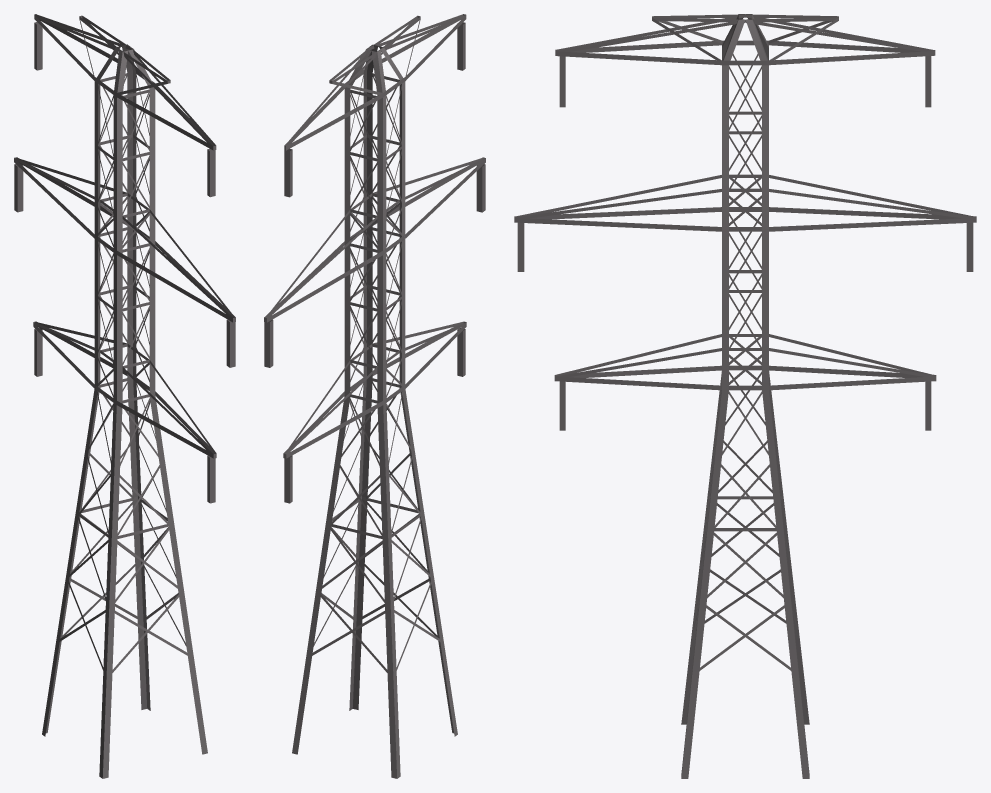
3 renders of one model, left to right at view 1: azimuth 30°, elevation 25°; view 2: azimuth 150°, elevation 25°; view 3: azimuth 270°, elevation 25°, orthographic. The views are drawn at different scales.
Parts seen in each view (by area): view 1: body0_model0_lod0_mesh0; view 2: body0_model0_lod0_mesh0; view 3: body0_model0_lod0_mesh0.
Part boxes in pixels (x1,y1,x2,y2): body0_model0_lod0_mesh0: [14, 14, 235, 778]; body0_model0_lod0_mesh0: [264, 14, 485, 778]; body0_model0_lod0_mesh0: [514, 14, 976, 778].
Size of the model in its own units: 18.41 by 116 by 66.25.
1 material, 1 textured.
